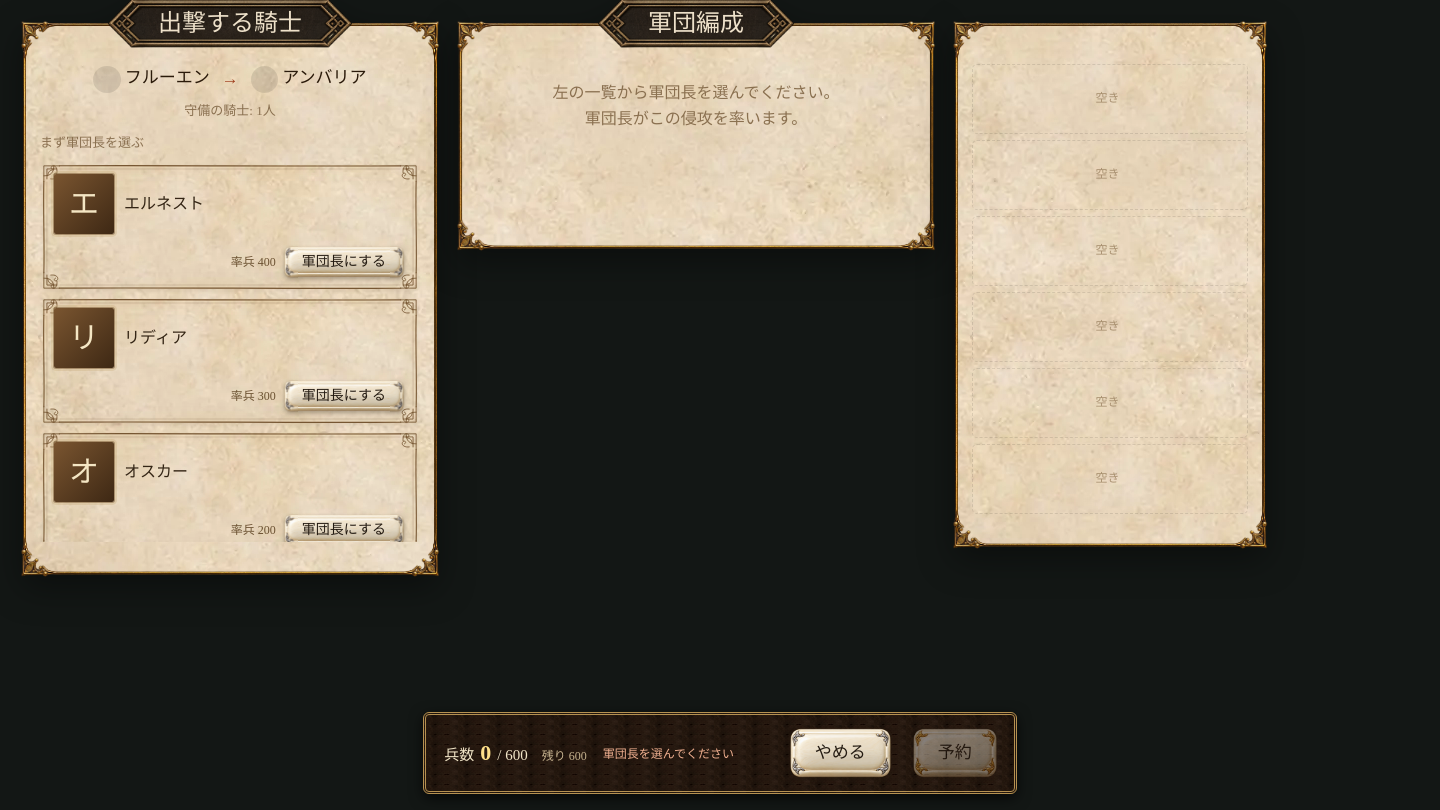
Test: InvasionScreen › starts by picking the commander; unavailable knights cannot be picked
Expected: the button "予約" is disabled, x1=910 y1=725 x2=1000 y2=781
Expected: the message reads "軍団長を選んでください", x1=603 y1=747 x2=734 y2=761
Step 1. Click the button with aria-label "エルネストを軍団長にする" → (344,262), box x1=282 y1=244 x2=406 y2=280
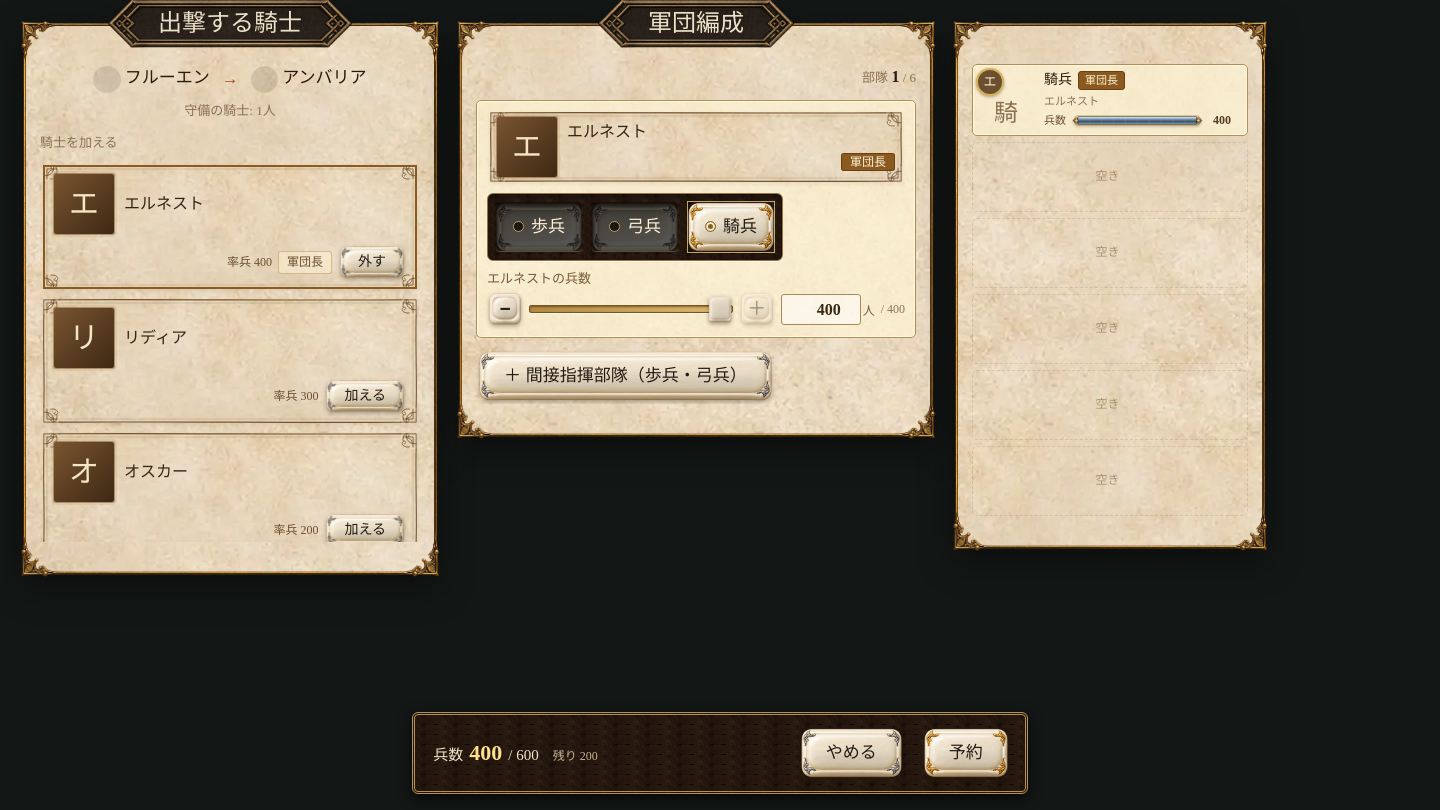
Expected: the 2nd text "軍団長" is shown, x1=841 y1=153 x2=895 y2=171
Result: the button "予約" is enabled at x1=921 y1=725 x2=1011 y2=781
